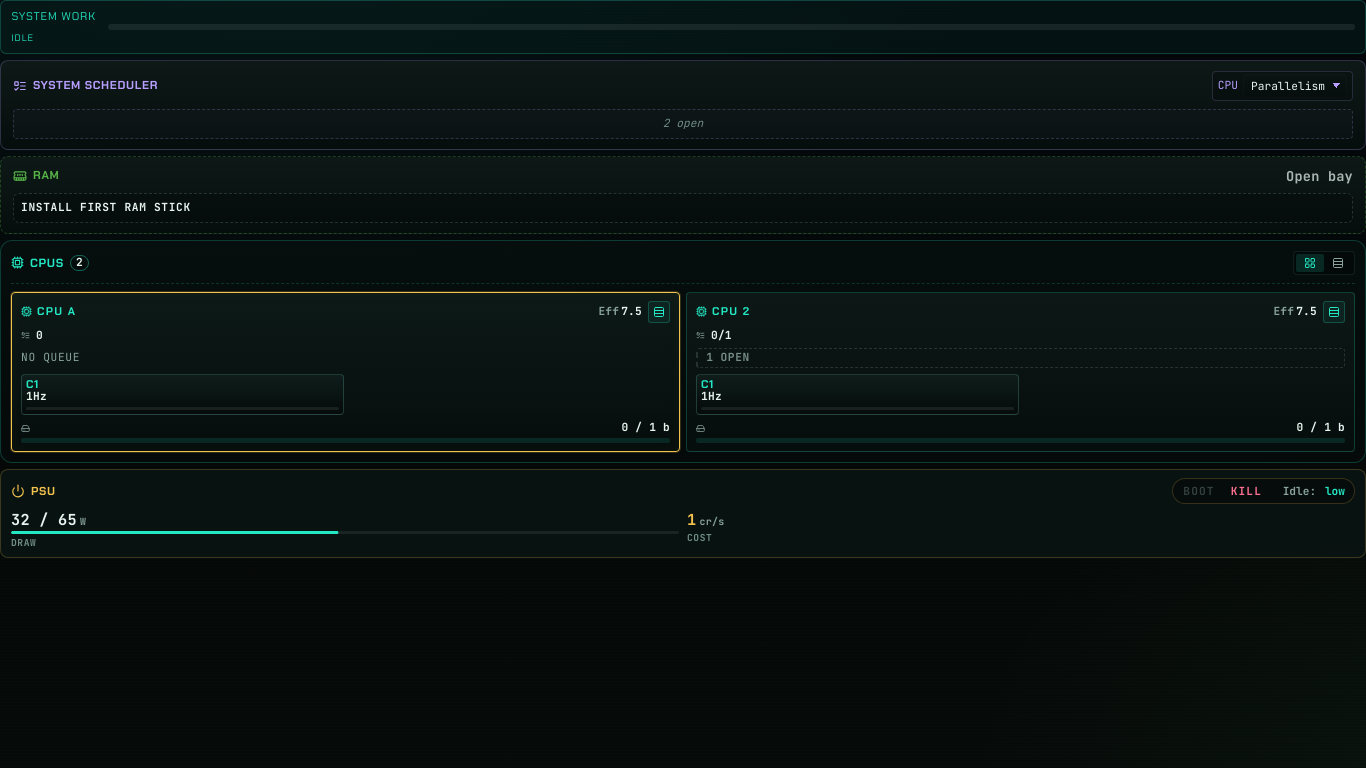
Scenario: HardwareBoard second CPU system management › shows CPU efficiency in array cards and tab detail
Expected: the element with class "cpu-summary-efficiency" shows "Eff", [598, 305, 619, 319]
Expected: the element with class "cpu-summary-efficiency" shows "7.5", [621, 305, 642, 319]
Click the 1st button with class "cpu-summary-open": (659, 312) [648, 301, 670, 323]
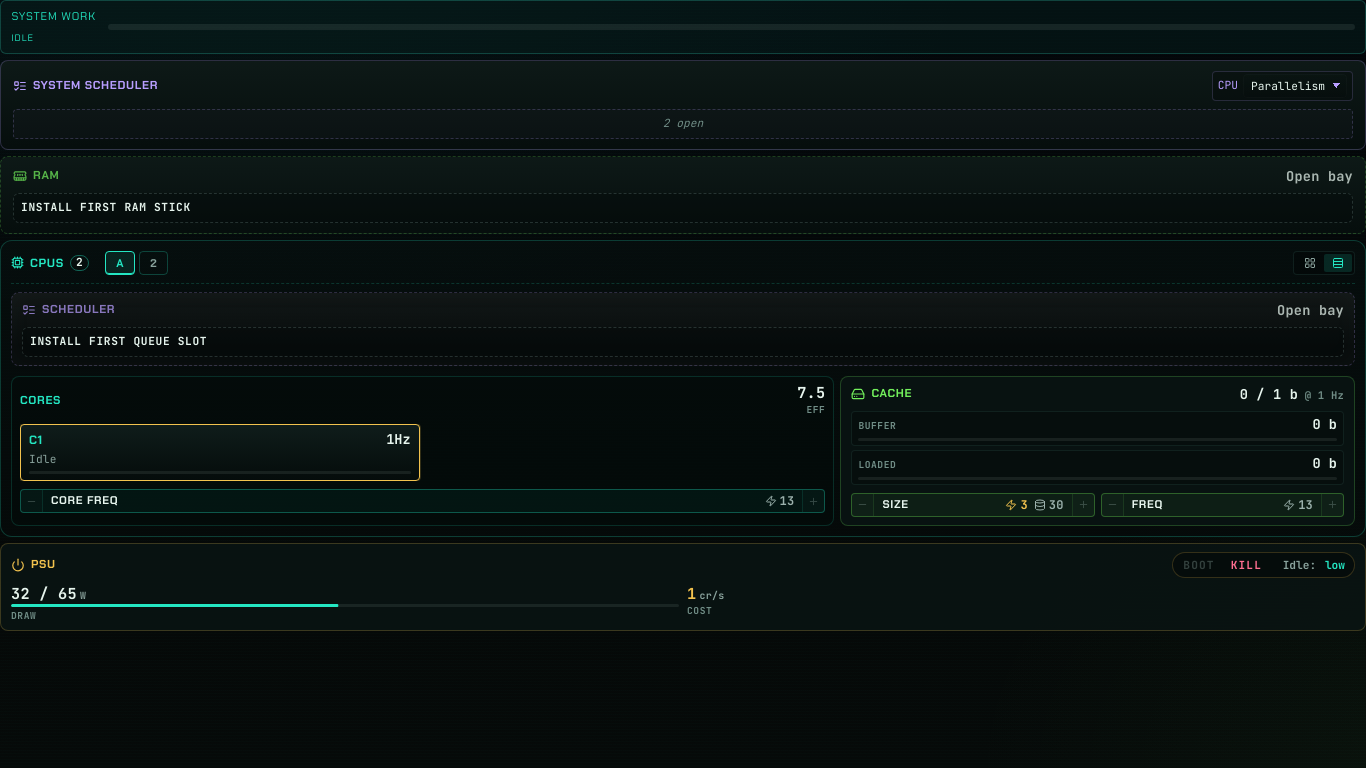
Expected: the element with class "core-array-efficiency" shows "Eff", [806, 403, 825, 416]
Expected: the element with class "core-array-efficiency" shows "7.5", [797, 382, 825, 403]
